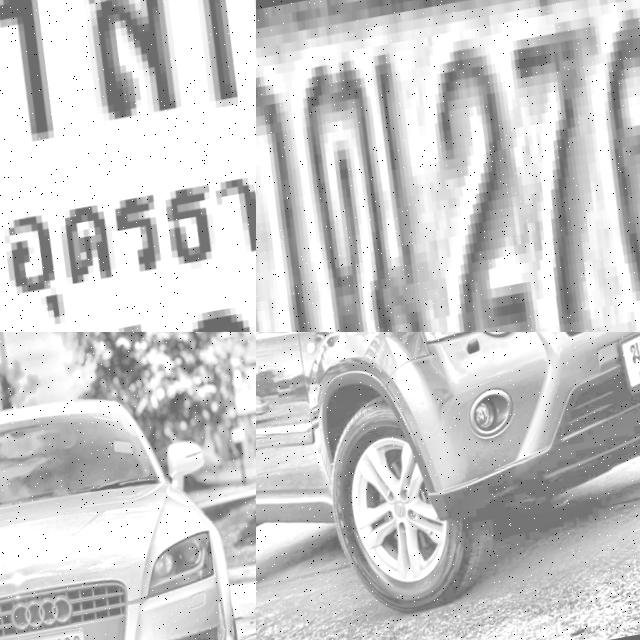license-plate: (256, 0, 640, 332), (0, 0, 256, 332), (613, 332, 640, 403), (3, 621, 98, 640)
